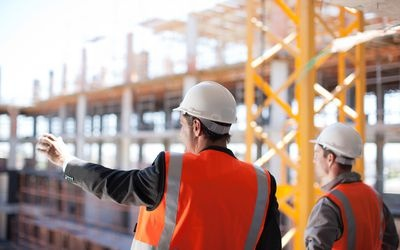white: (176, 79, 238, 148), (314, 122, 362, 181)
